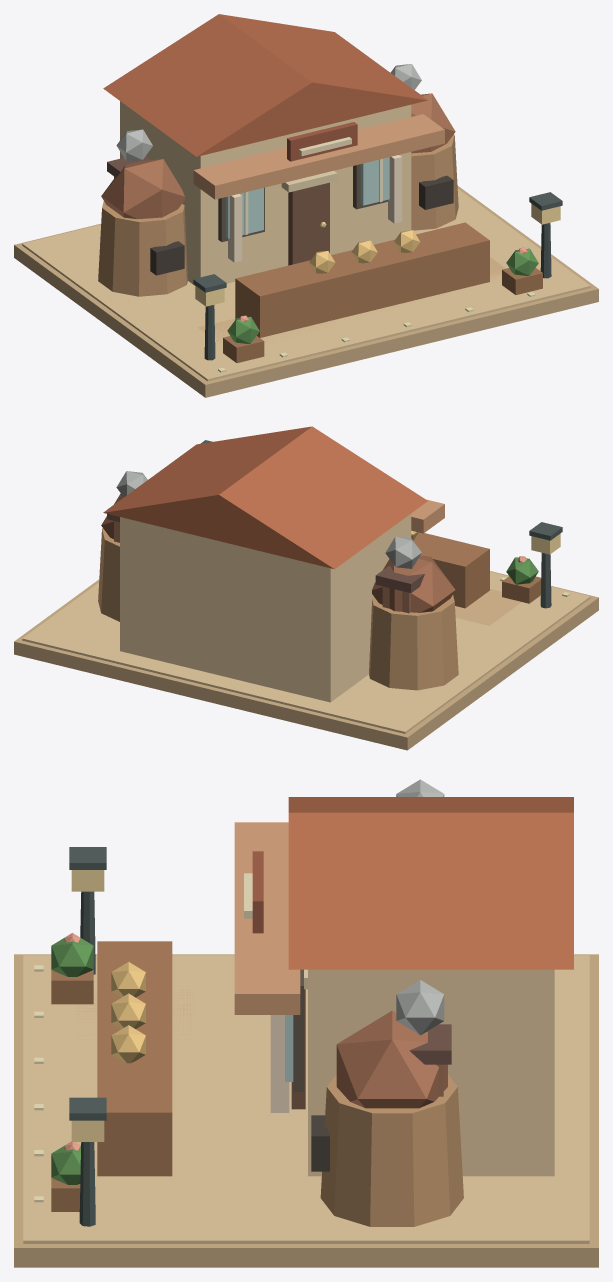
Rendered from bakery-lv3.obj.
3 renders of one model, top to bottom at view 1: azimuth 30°, elevation 25°; view 2: azimuth 150°, elevation 25°; view 3: azimuth 270°, elevation 25°, orthographic. The views are drawn at different scales.
Visible parts, largest first — view 1: bakery_4, bakery_1, bakery_23, bakery_3, bakery_0, bakery_15, bakery_11, bakery_16, bakery_5, bakery_9, bakery_25, bakery_17 (+10 smaller); view 2: bakery_3, bakery_4, bakery_1, bakery_0, bakery_15, bakery_23, bakery_16, bakery_20, bakery_22, bakery_25, bakery_19, bakery_11 (+4 smaller); view 3: bakery_1, bakery_4, bakery_3, bakery_0, bakery_15, bakery_23, bakery_11, bakery_16, bakery_25, bakery_24, bakery_20, bakery_28 (+7 smaller).
Part boxes in pixels (bbox=[...]): bakery_4: bbox=[103, 14, 427, 156]; bakery_1: bbox=[22, 189, 590, 381]; bakery_23: bbox=[235, 222, 489, 337]; bakery_3: bbox=[120, 101, 411, 285]; bakery_0: bbox=[14, 186, 598, 397]; bakery_15: bbox=[98, 134, 458, 296]; bakery_11: bbox=[193, 114, 444, 199]; bakery_16: bbox=[101, 93, 455, 219]; bakery_5: bbox=[288, 182, 329, 265]; bakery_9: bbox=[225, 157, 389, 238]; bakery_25: bbox=[193, 192, 562, 360]; bakery_17: bbox=[150, 175, 453, 275]; bakery_3: bbox=[120, 513, 411, 702]; bakery_4: bbox=[103, 426, 427, 569]; bakery_1: bbox=[22, 572, 590, 733]; bakery_0: bbox=[14, 571, 598, 750]; bakery_15: bbox=[98, 528, 458, 690]; bakery_23: bbox=[413, 532, 489, 608]; bakery_16: bbox=[101, 493, 455, 612]; bakery_20: bbox=[116, 471, 421, 568]; bakery_22: bbox=[455, 589, 521, 625]; bakery_25: bbox=[201, 440, 562, 608]; bakery_19: bbox=[107, 501, 424, 592]; bakery_11: bbox=[411, 499, 444, 533]; bakery_1: bbox=[23, 955, 589, 1243]; bakery_4: bbox=[288, 797, 573, 969]; bakery_3: bbox=[308, 969, 554, 1176]; bakery_0: bbox=[14, 954, 598, 1267]; bakery_15: bbox=[320, 1074, 463, 1226]; bakery_23: bbox=[97, 941, 172, 1176]; bakery_11: bbox=[234, 822, 300, 1014]; bakery_16: bbox=[336, 1010, 447, 1108]; bakery_25: bbox=[69, 847, 106, 1226]; bakery_24: bbox=[111, 961, 145, 1063]; bakery_20: bbox=[396, 779, 444, 1035]; bakery_28: bbox=[51, 938, 93, 1184].
Bounding box in the file's own units: 4.45 × 2.18 × 3.75.
